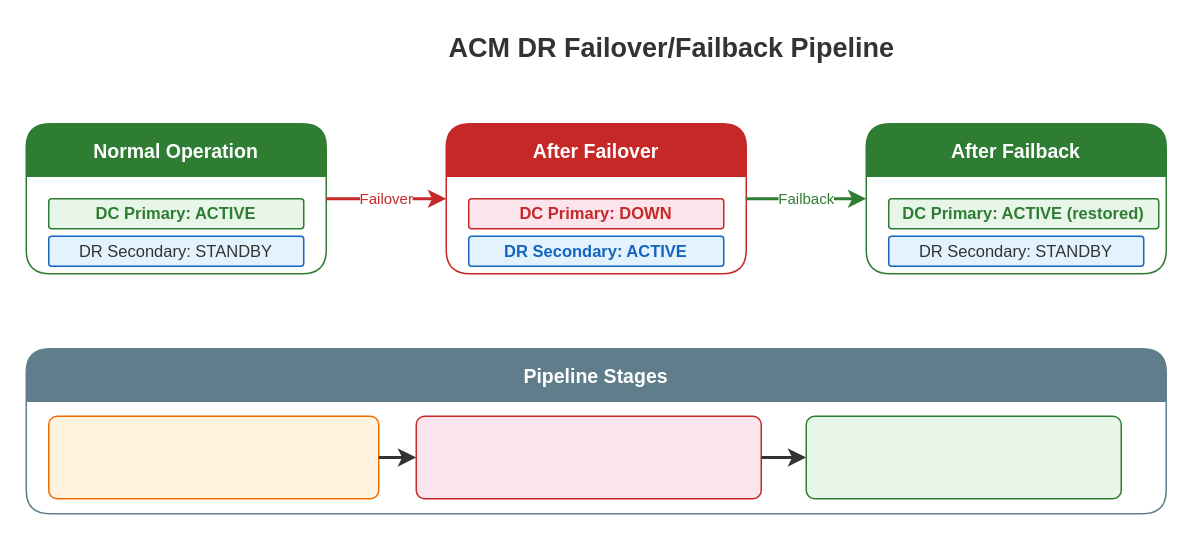
Image size: 1193x540. Some labels were removed from this diagram. Here are the shapes that lost their labels. From the top down, the centre of each, then its label:
the point at 213,457: Stage 1: Configure DR (DRPolicy + DRPC)
the point at 588,457: Stage 2: Execute DR Action (Failover/Failback/Relocate)
the point at 963,457: Stage 3: Validate DR (Check status)
